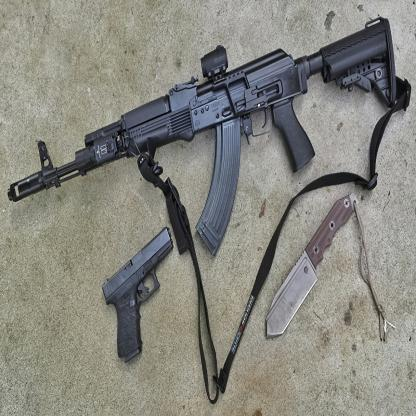Gun: (5, 13, 398, 258)
Knife: (265, 190, 360, 340)
Pistol: (101, 223, 174, 366)
